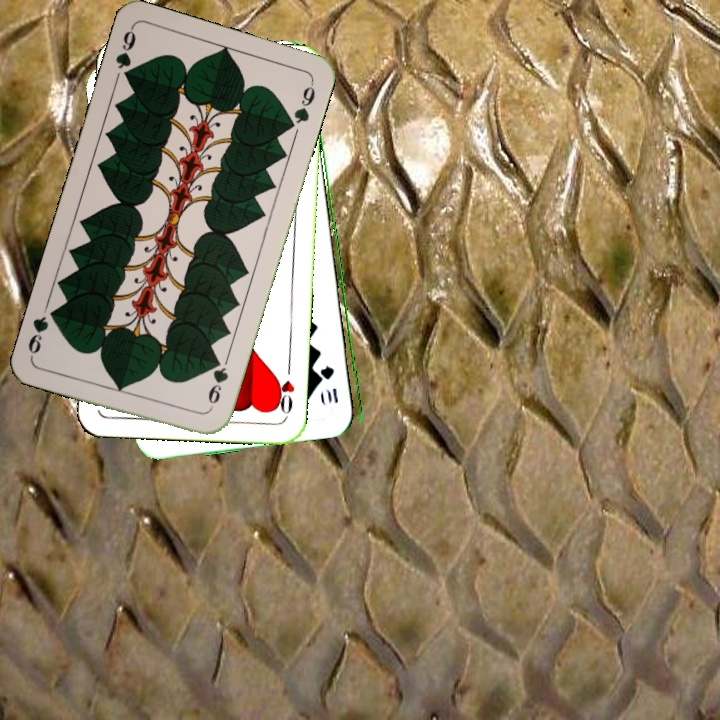G10: (320, 362, 341, 406)
G9: (111, 24, 138, 85), (204, 354, 231, 413)
HO: (271, 360, 297, 419)
